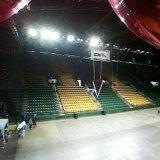Orange_Triangle_Gshape: (91, 80, 103, 98)
